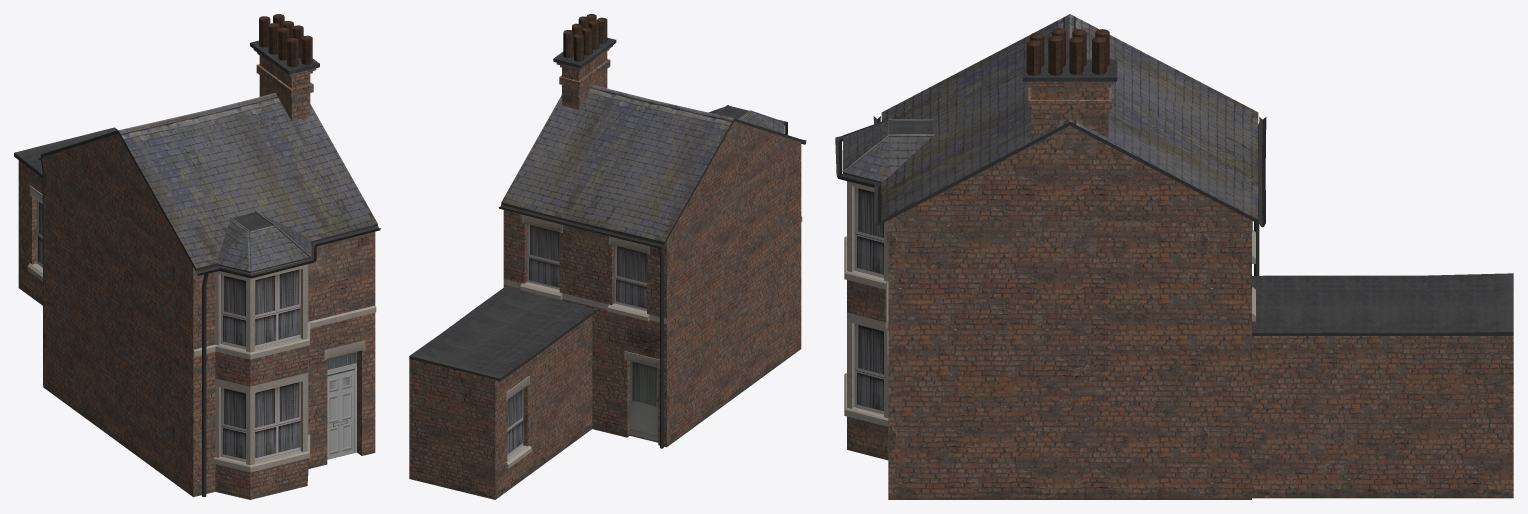
File: ukterracedvictorian11.FBX
3 views of the same model, side by side, from view 1: azimuth 30°, elevation 25°; view 2: azimuth 150°, elevation 25°; view 3: azimuth 270°, elevation 25° (orthographic). The views are drawn at different scales.
Parts seen in each view (by area): view 1: Object003; view 2: Object003; view 3: Object003.
Boxes of the visible parts, box(x1,y1,x2,y2) form: Object003: box(14, 14, 380, 499); Object003: box(409, 14, 806, 499); Object003: box(835, 14, 1513, 499).
Bounding box in the file's own units: 561 × 1108 × 1493.
